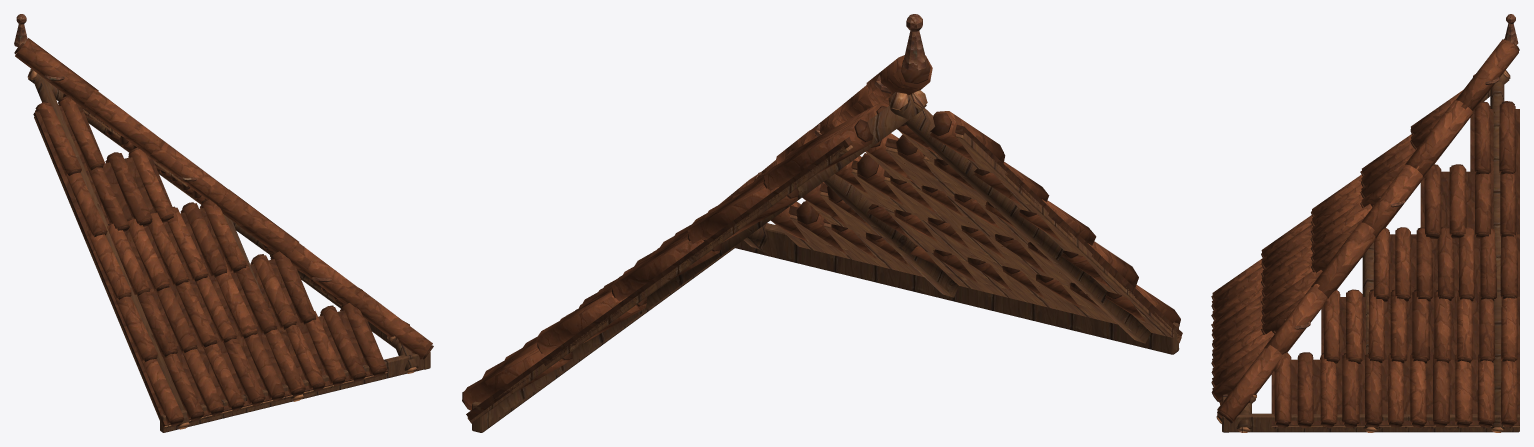
Rendered from roof_45_outer__clay_brick.glb.
3 renders of one model, left to right at view 1: azimuth 30°, elevation 25°; view 2: azimuth 150°, elevation 25°; view 3: azimuth 270°, elevation 25°, orthographic. The views are drawn at different scales.
Visible parts, largest first — view 1: model; view 2: model; view 3: model.
Boxes of the visible parts, x1=… form: model: x1=14, y1=14, x2=433, y2=432; model: x1=462, y1=14, x2=1182, y2=432; model: x1=1211, y1=14, x2=1519, y2=432.
Size of the model in its own units: 2.07 by 2.2 by 2.07.
Materials: 8 (8 with a texture image).
